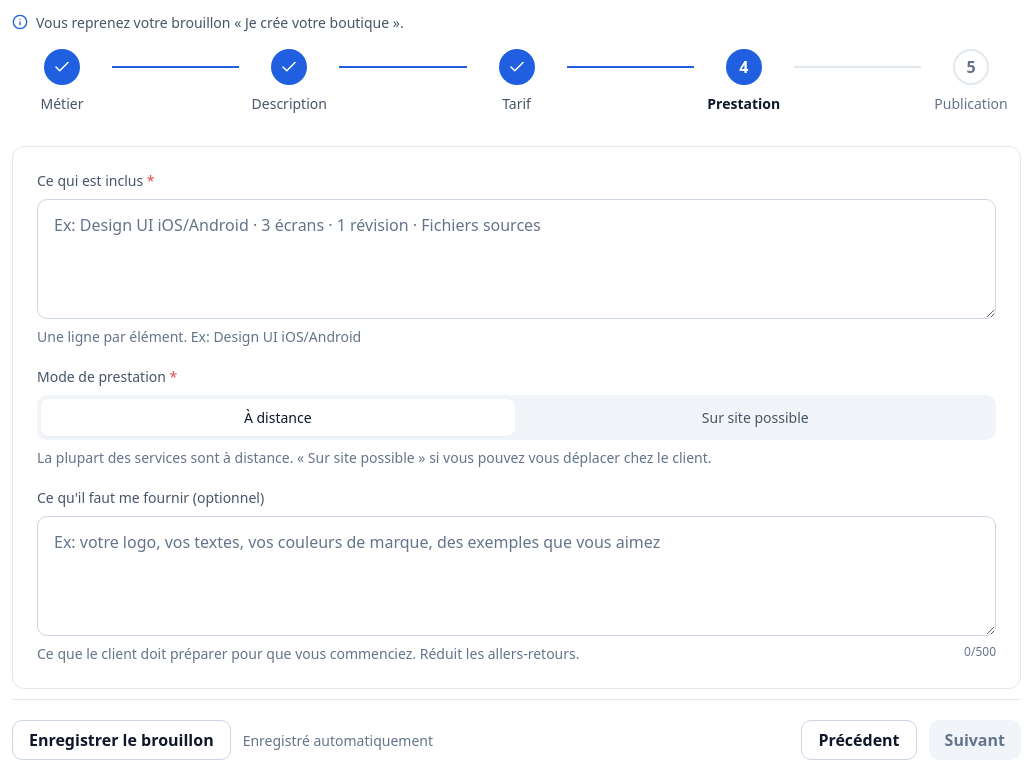
Test case: H6 wizard › « Précédent » moves one step back (4 → 3), saving the step-4 choice
The image size is (1036, 780).
Click the radio button labelled "Sur site possible" at [755, 418], box 702,408 -> 809,427
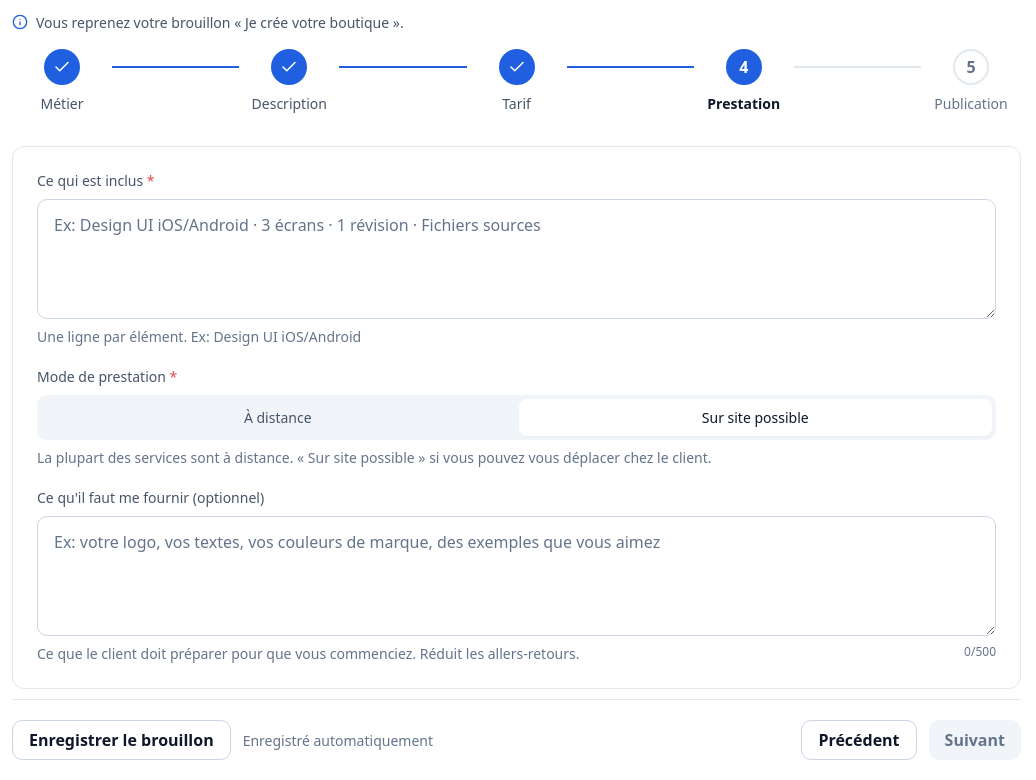
Click the button "Précédent" at [859, 740], box 801,720 -> 917,760
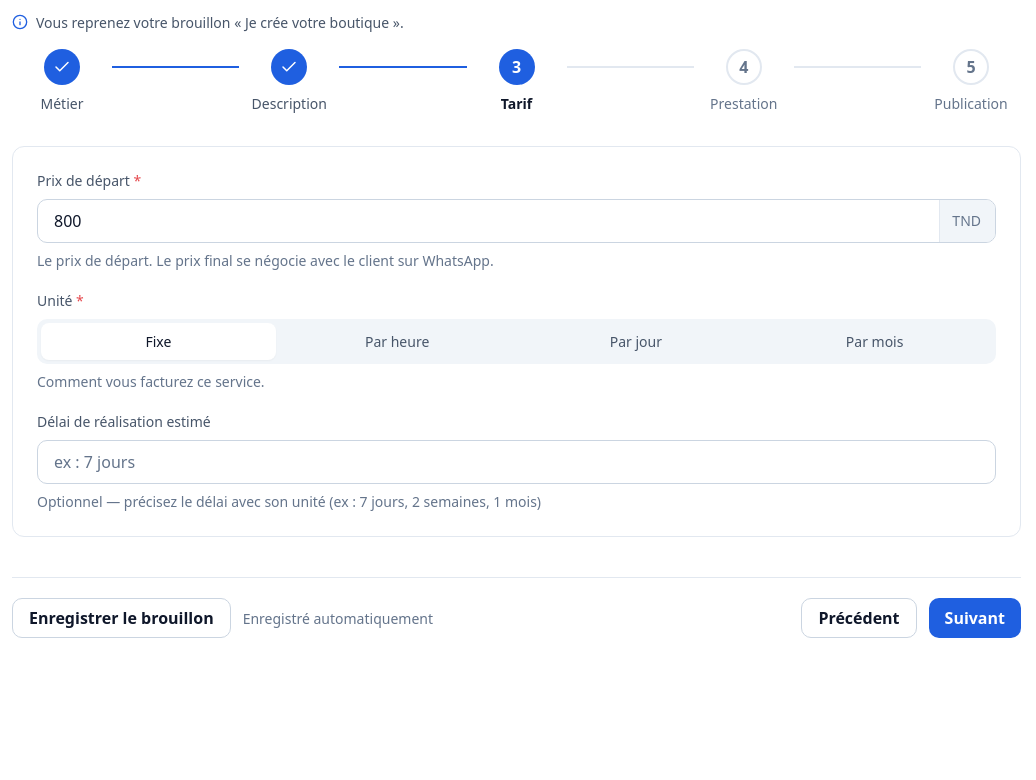
expect the field labelled "Prix de départ *" holds "800": met, box 54,209 -> 927,233
